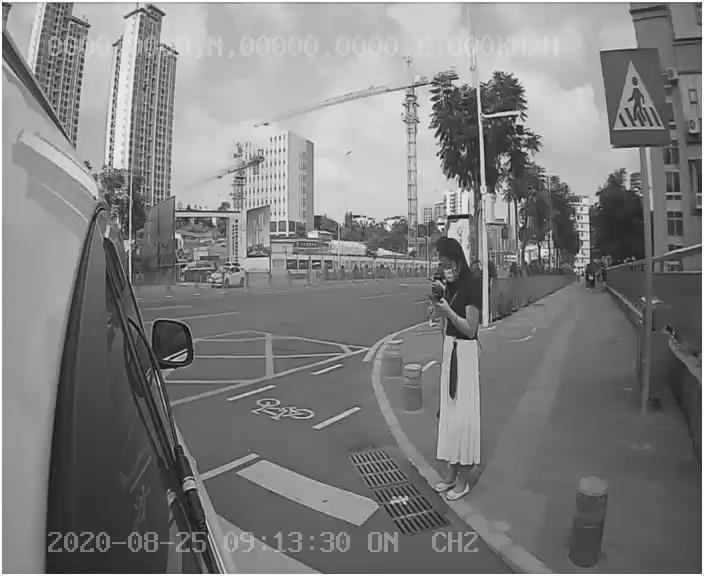person: (421, 244, 496, 503)
